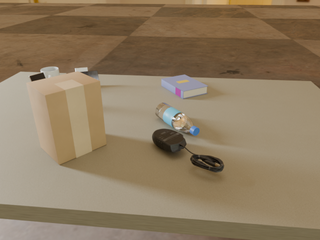book: (162, 75, 207, 99)
bottle: (156, 103, 199, 136)
box: (26, 71, 106, 165)
cup: (41, 67, 60, 78)
mouse: (152, 129, 186, 152)
phone: (81, 71, 99, 80)
